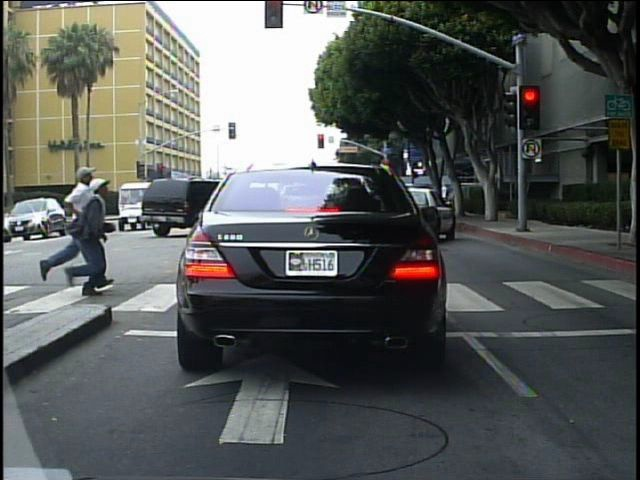person: (50, 170, 117, 295), (49, 165, 102, 297), (438, 179, 453, 215)
